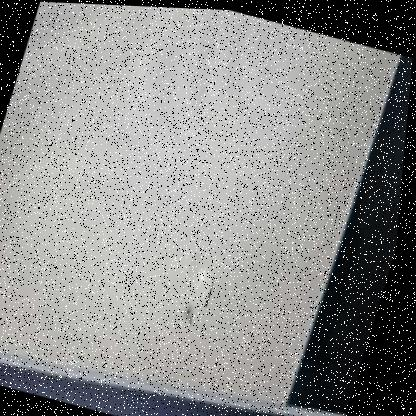spot: (184, 249, 227, 306)
